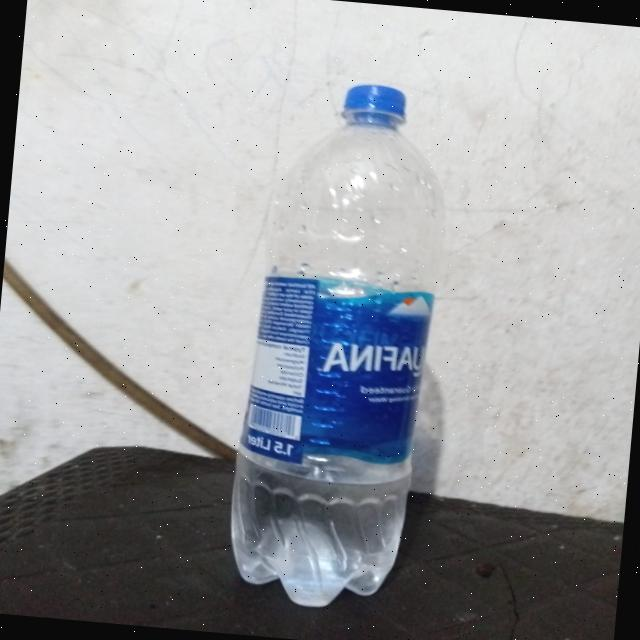bottle: (202, 49, 467, 619)
cap: (328, 73, 421, 131)
label: (226, 256, 443, 474)
